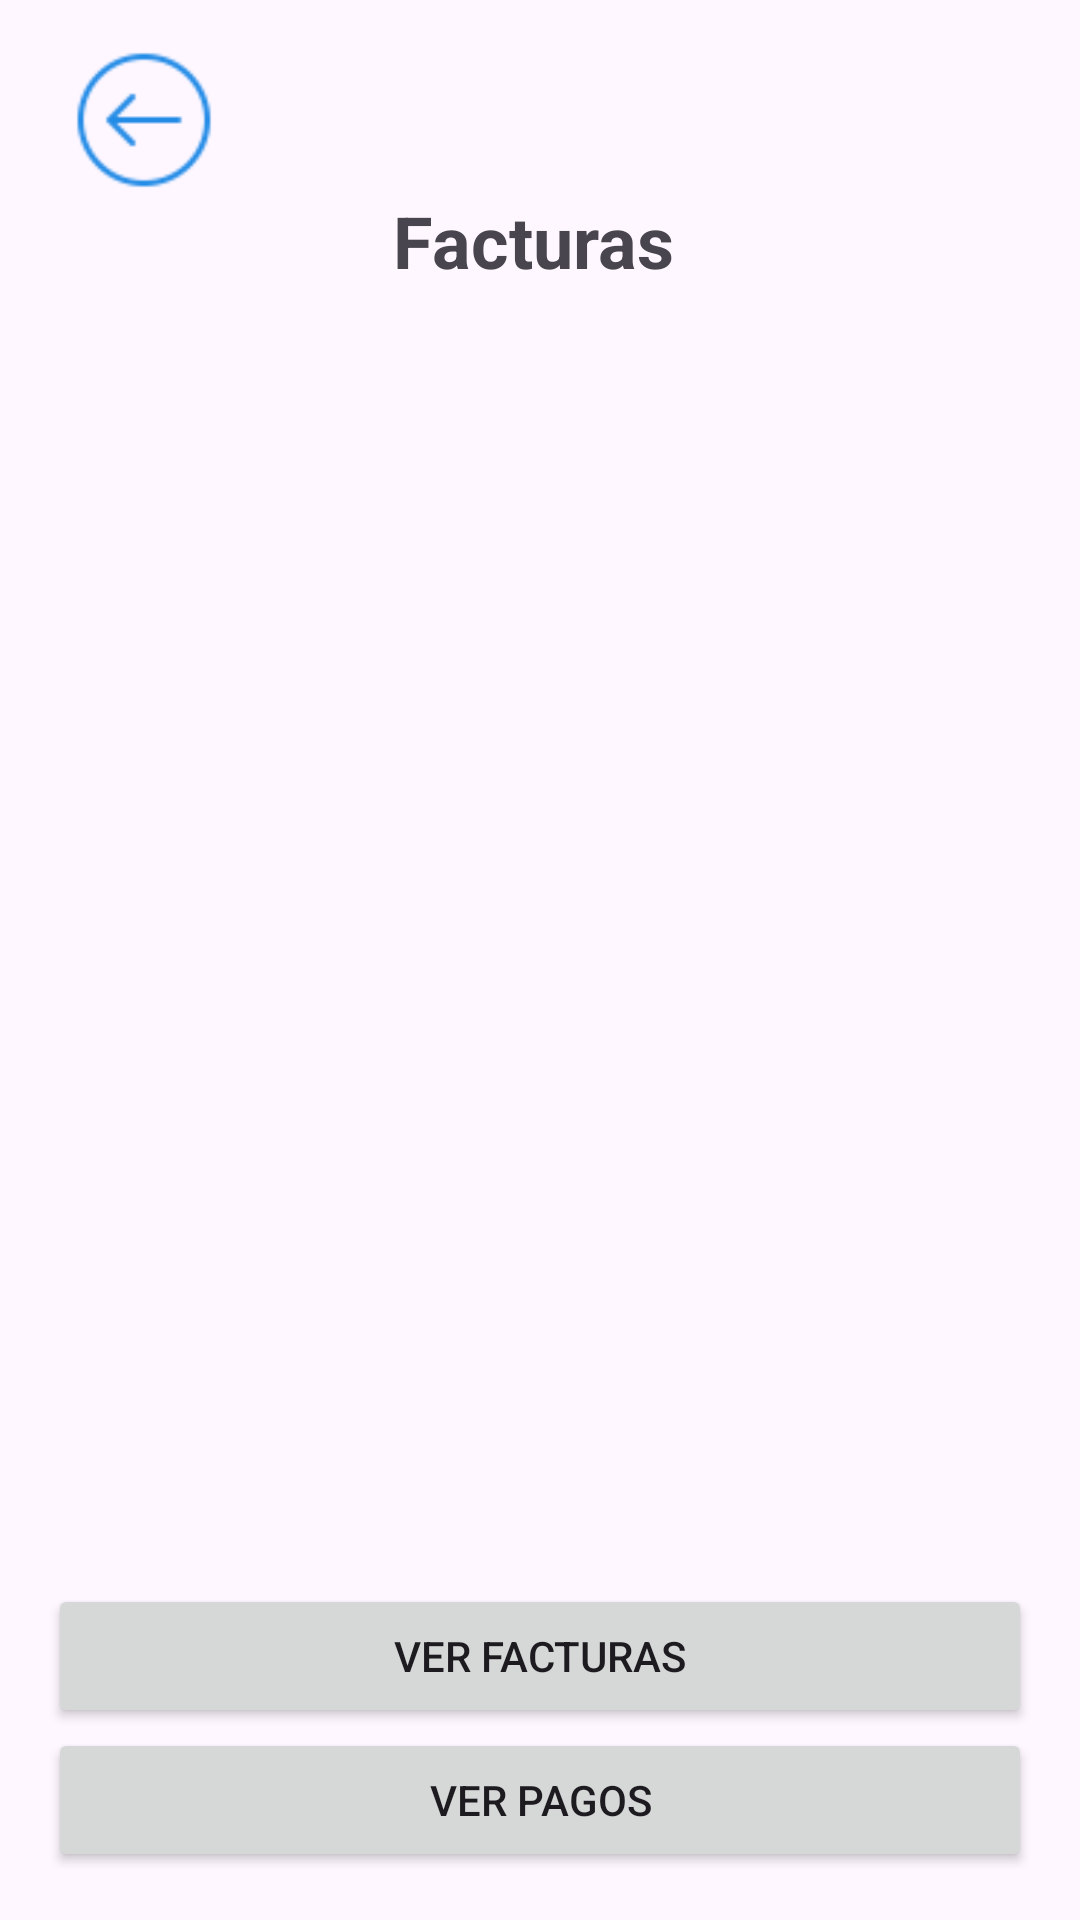

Named icons in this screenshot (1080*1920) and their bounding boxes, (x1, y1, x2, y2):
Retroceder: (77, 53, 211, 187)
